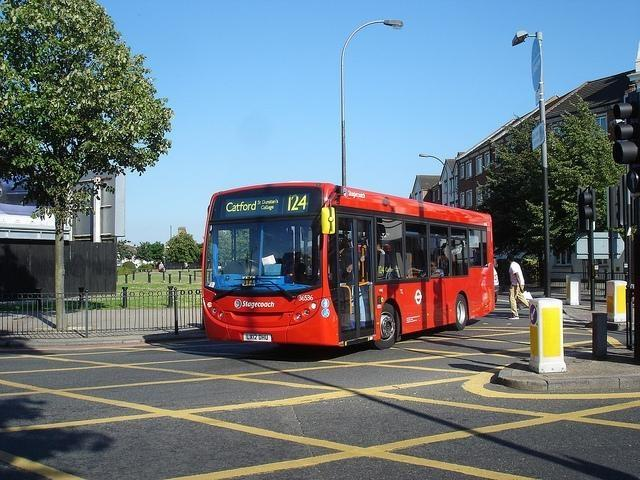bus: (200, 184, 498, 352)
